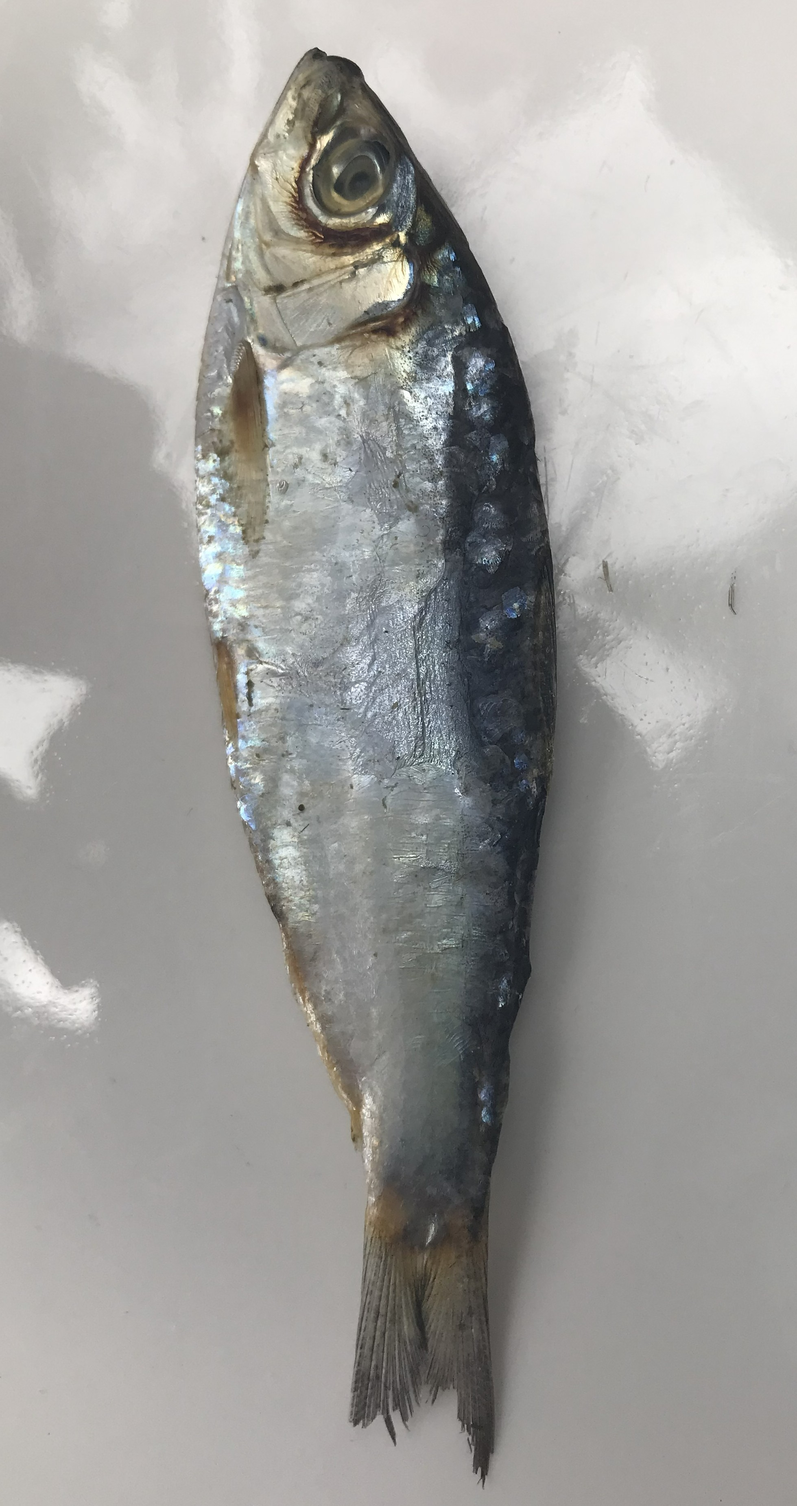tamban_dried_: (242, 48, 611, 1489), (195, 255, 308, 559), (266, 637, 358, 721), (208, 629, 256, 744)
